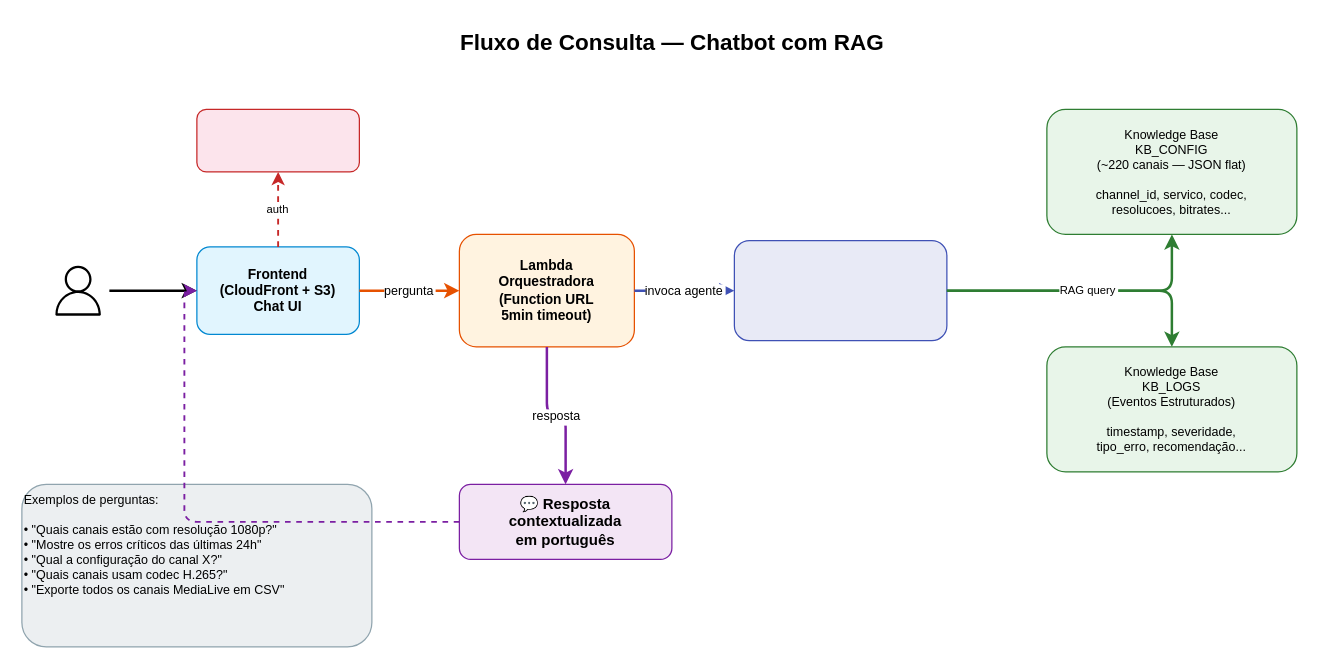
Some shapes in this 1319 by 669 pixel diagram are drawn without their labels. Here are the shapes that lost their labels. From the top down, the centre of each, then its label:
the point at 277,140: Cognito (JWT Auth)
the point at 77,290: Operador NOC
the point at 840,290: Amazon Bedrock Agent (Claude — PT-BR)
